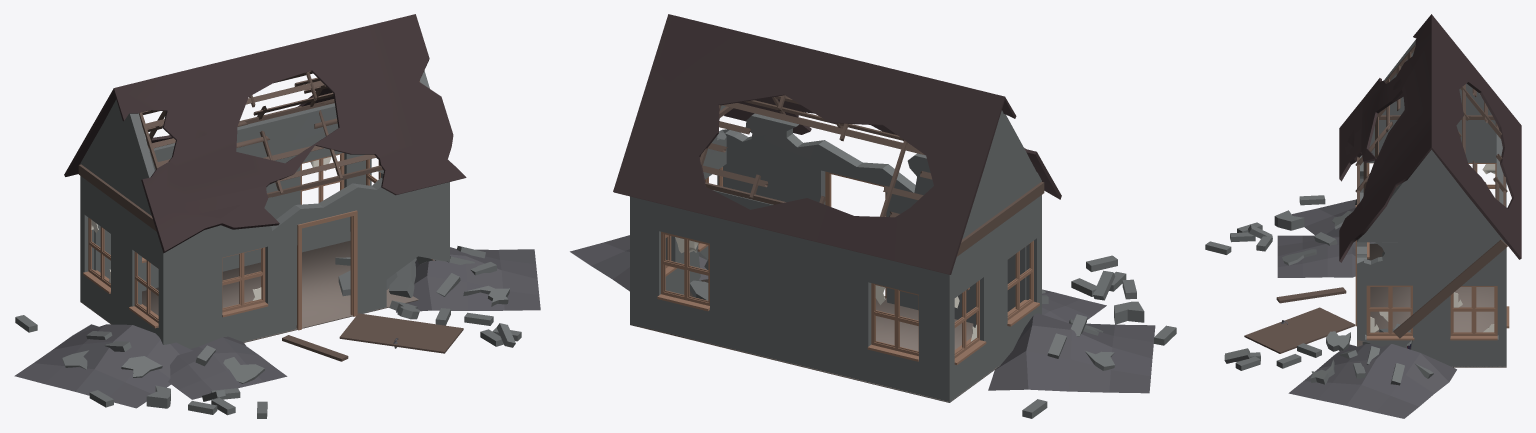
File: StartLocation.fbx
3 renders of one model, left to right at view 1: azimuth 30°, elevation 25°; view 2: azimuth 150°, elevation 25°; view 3: azimuth 270°, elevation 25°, orthographic. The views are drawn at different scales.
Visible parts, largest first — view 1: StartLocation; view 2: StartLocation; view 3: StartLocation.
Part boxes in pixels (left/top/right/bottom): StartLocation: left=14, top=14, right=540, bottom=418; StartLocation: left=570, top=14, right=1176, bottom=418; StartLocation: left=1205, top=14, right=1521, bottom=418.
Size of the model in its own units: 806 by 374 by 468.
